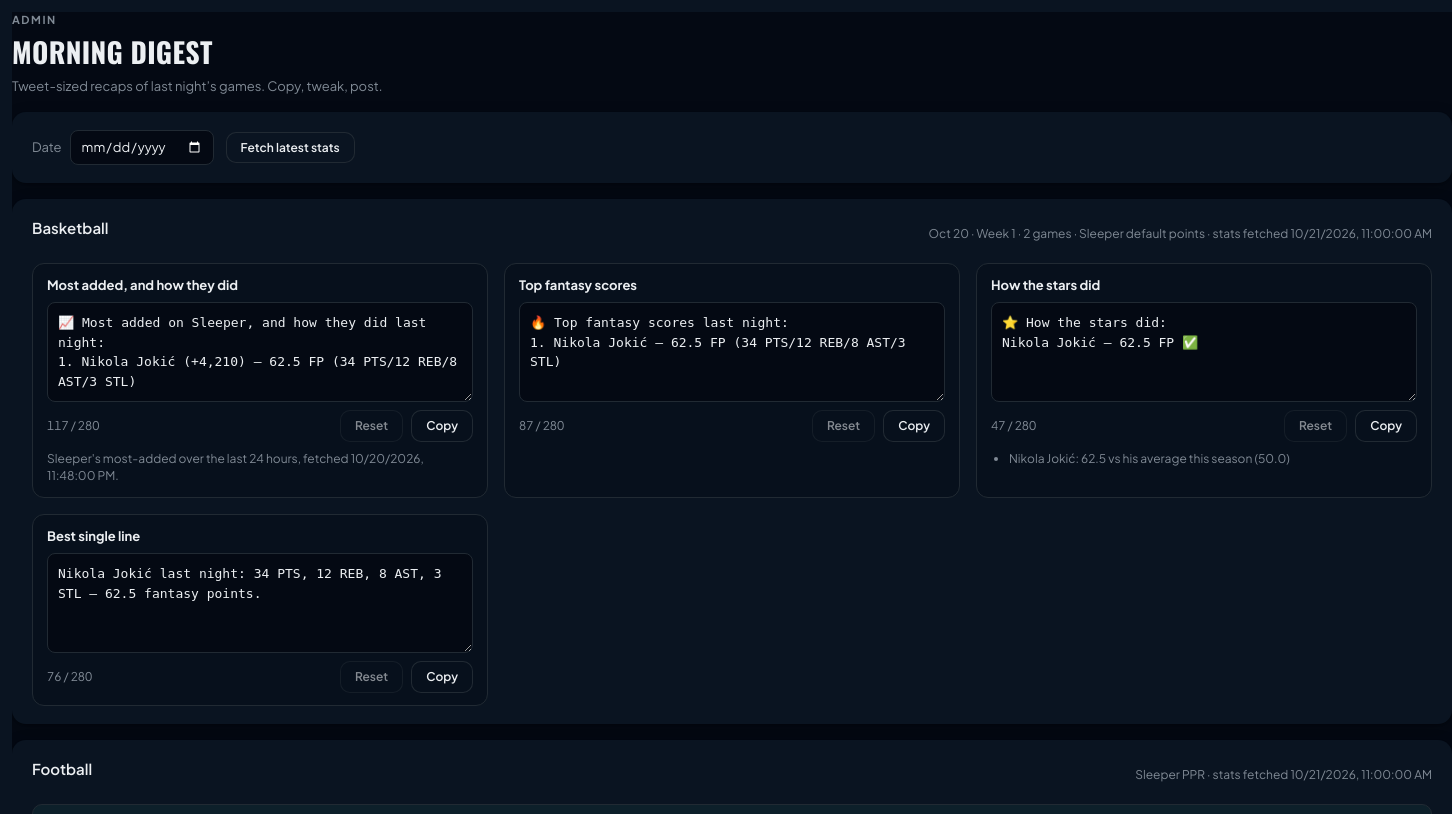
Test: AdminDigest › updates the counter on edit and copies the edited text
This screenshot has width=1452, height=814.
Replace the text in the text box named "Best single line text" with "hello" at (260, 604), box [47,554,473,654]
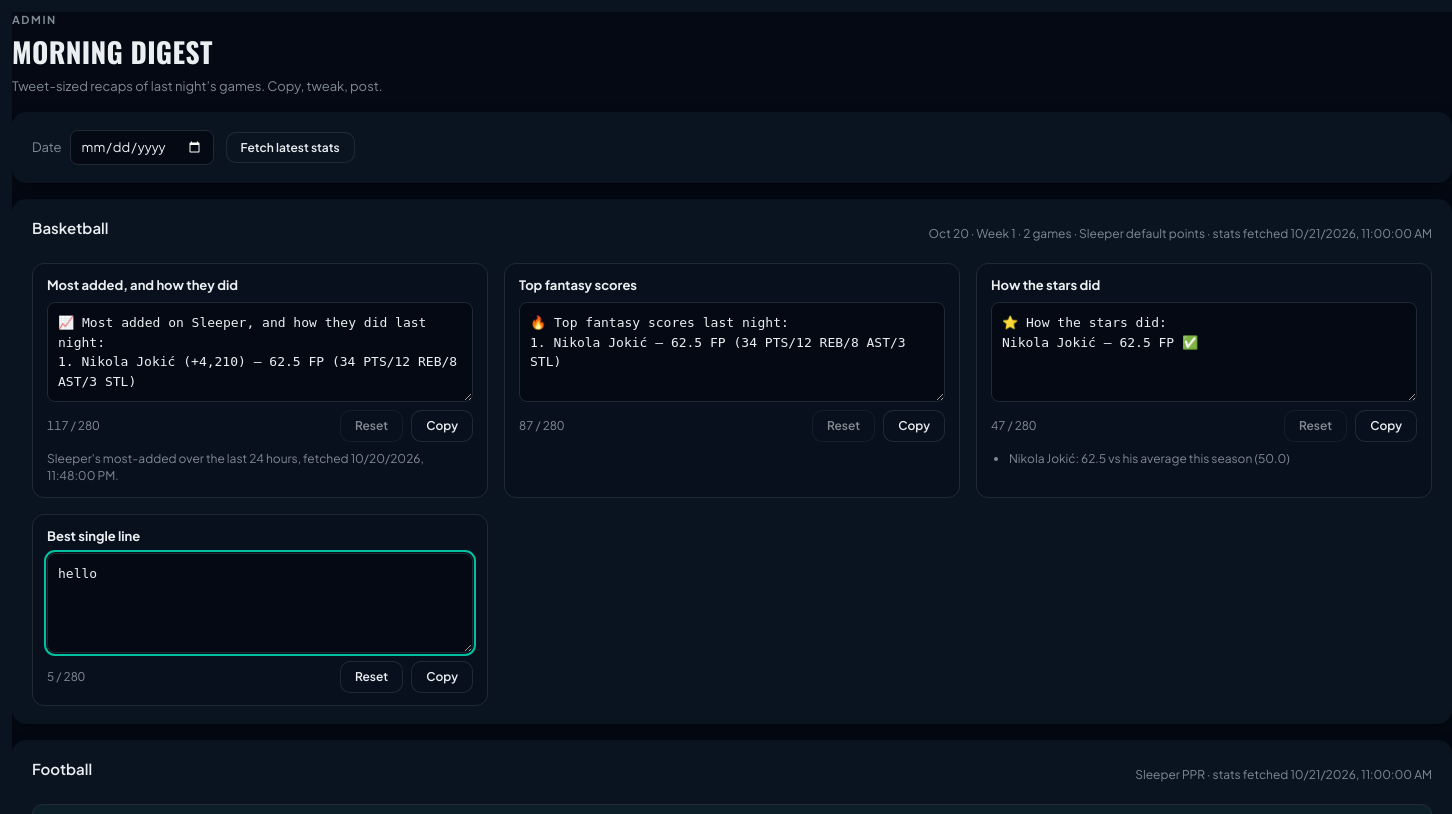
Result: the text with class "dg-count" reads "5 / 280" at [47,670,85,684]
Click the button "Copy" in the row of "5 / 280" at (442, 677), box [411,662,473,693]
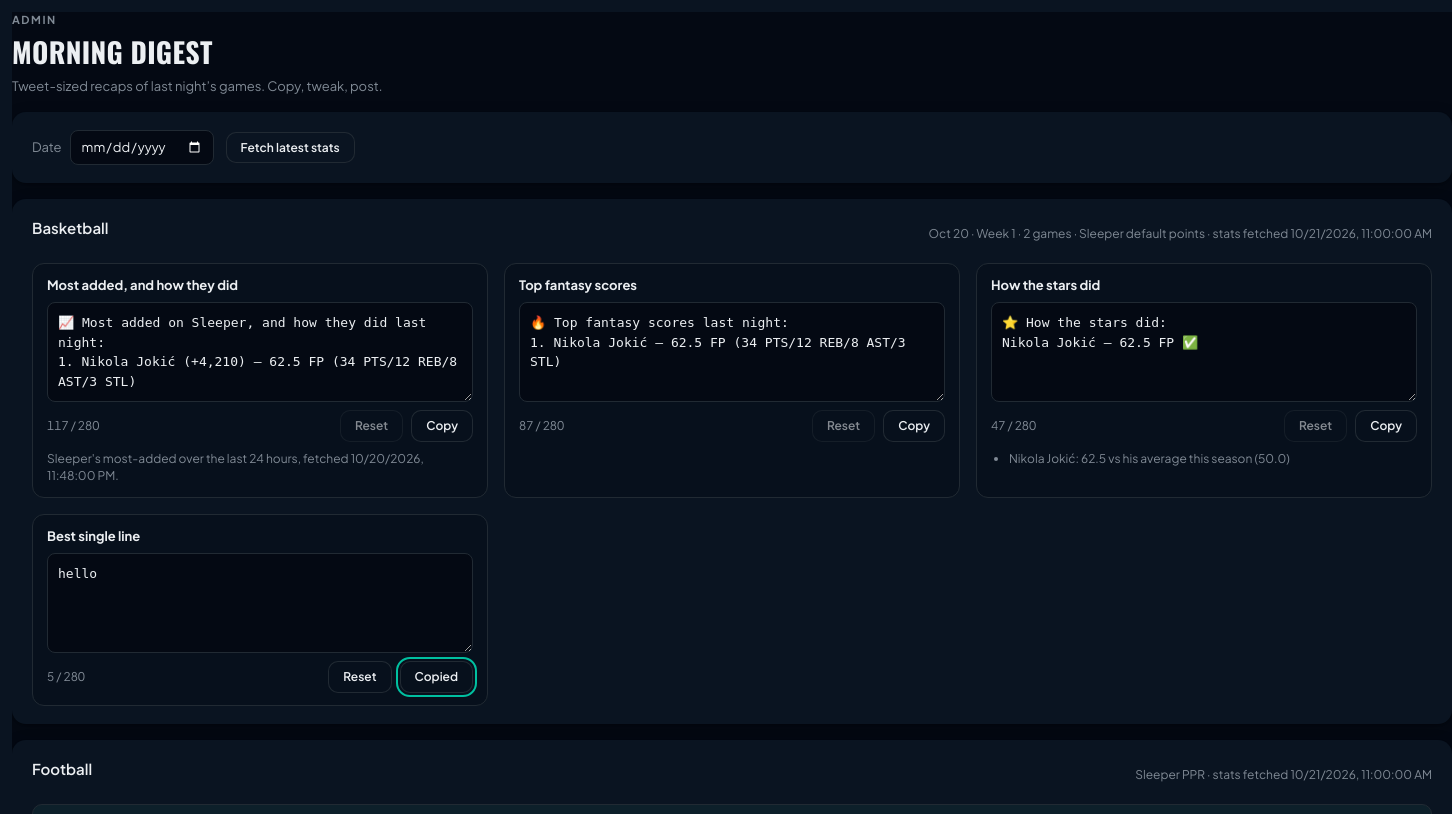
Result: the button "Copied" is shown at [400,662,473,693]
